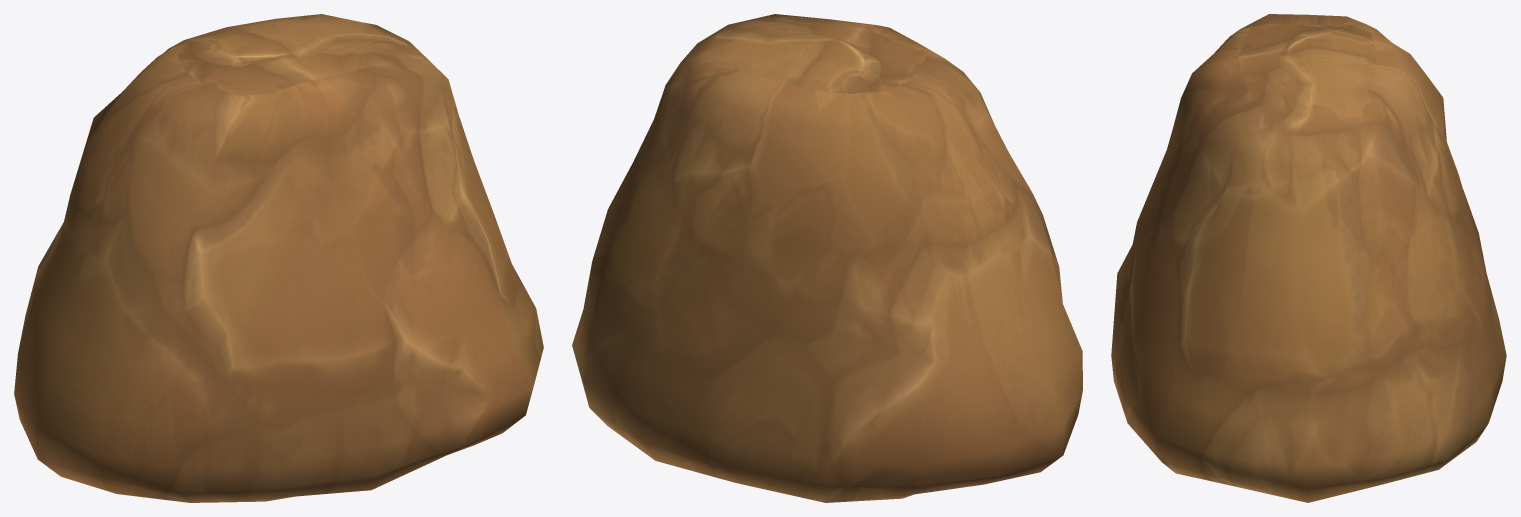
Rendered from Lowest_islands1.fbx.
The picture shows the model from 3 angles, left to right: view 1: azimuth 30°, elevation 25°; view 2: azimuth 150°, elevation 25°; view 3: azimuth 270°, elevation 25°; orthographic projection. The views are drawn at different scales.
Parts seen in each view (by area): view 1: Cube; view 2: Cube; view 3: Cube.
Boxes of the visible parts, bbox=[...] form: Cube: bbox=[14, 14, 543, 502]; Cube: bbox=[572, 14, 1082, 502]; Cube: bbox=[1111, 14, 1506, 502].
Bounding box in the file's own units: 1327 × 1074 × 1005.
Materials: 1 (1 with a texture image).
